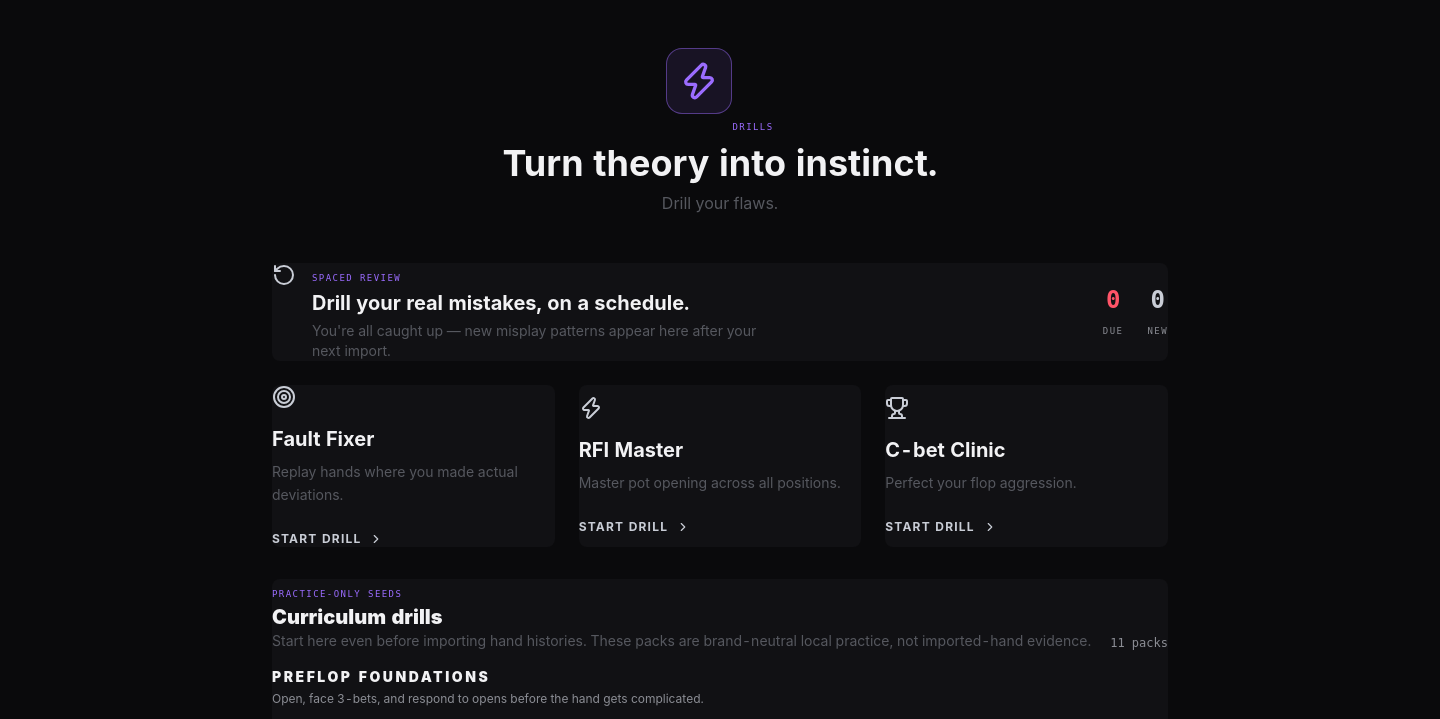
Scenario: ArenaPage drill start behavior › opens the shared dialog instead of window.alert when a drill has no pool
This screenshot has width=1440, height=719.
Click the button "C-bet Clinic Perfect your flop aggression. Start Drill" at (945, 450), box x1=885 y1=385 x2=1168 y2=546
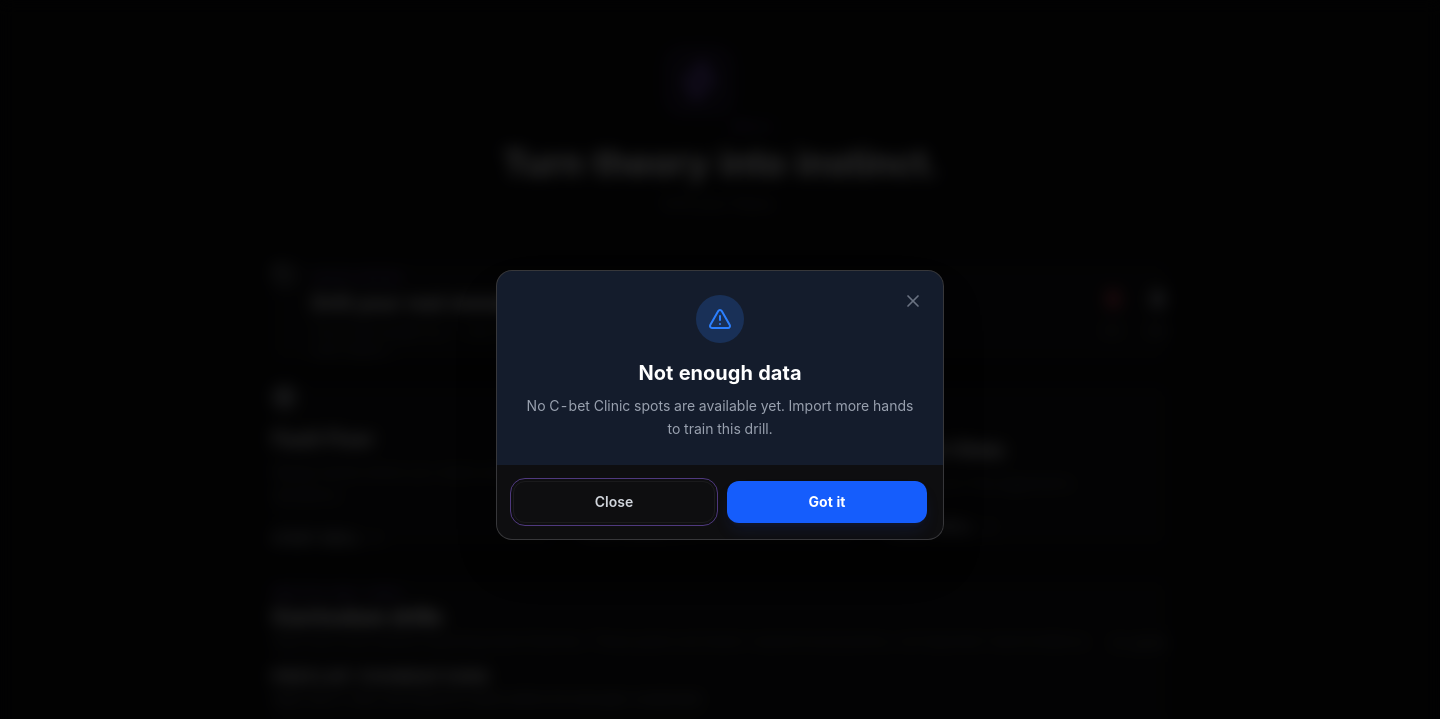
Now the dialog "Not enough data" is shown, box x1=496 y1=270 x2=944 y2=540
Now the text "No C-bet Clinic spots are available yet" is shown, box x1=527 y1=397 x2=913 y2=437
